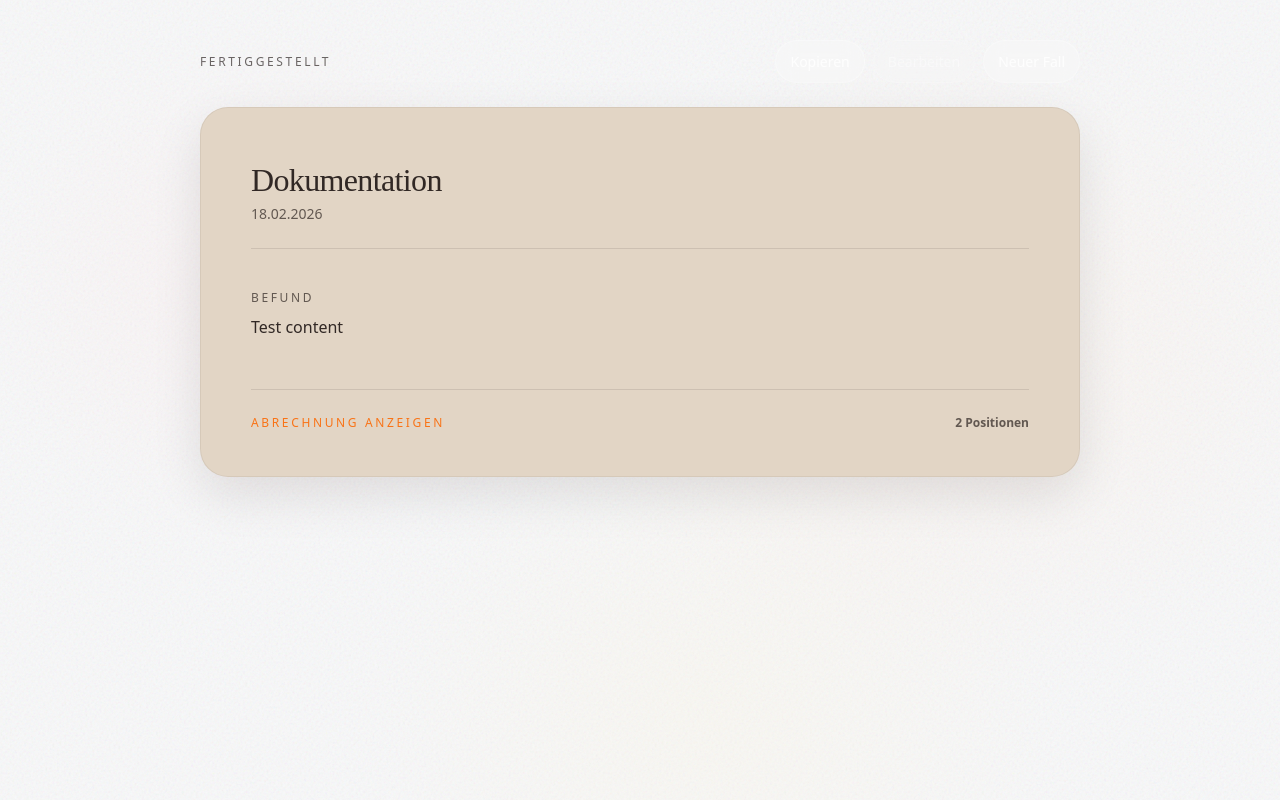
Test case: OutputFlow › Billing diagnostics › should show billing codes when available
The image size is (1280, 800).
Click to expand
Click the button with test id "billing-toggle".
click(348, 423)  # box x1=251 y1=414 x2=1029 y2=432
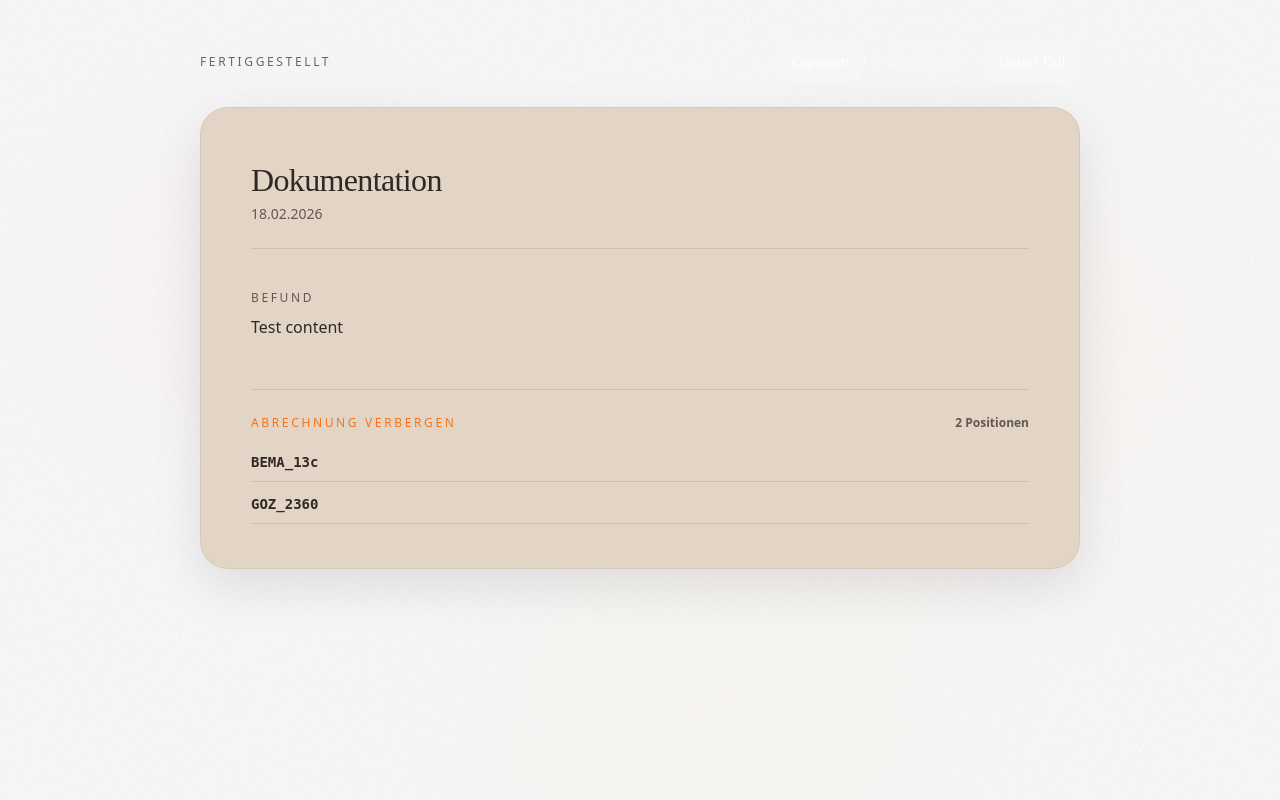
Check: the element with test id "billing-list" is shown, box x1=251 y1=452 x2=1029 y2=524
Check: the text "BEMA_13c" is shown, box x1=251 y1=452 x2=318 y2=473
Check: the text "GOZ_2360" is shown, box x1=251 y1=494 x2=318 y2=515
